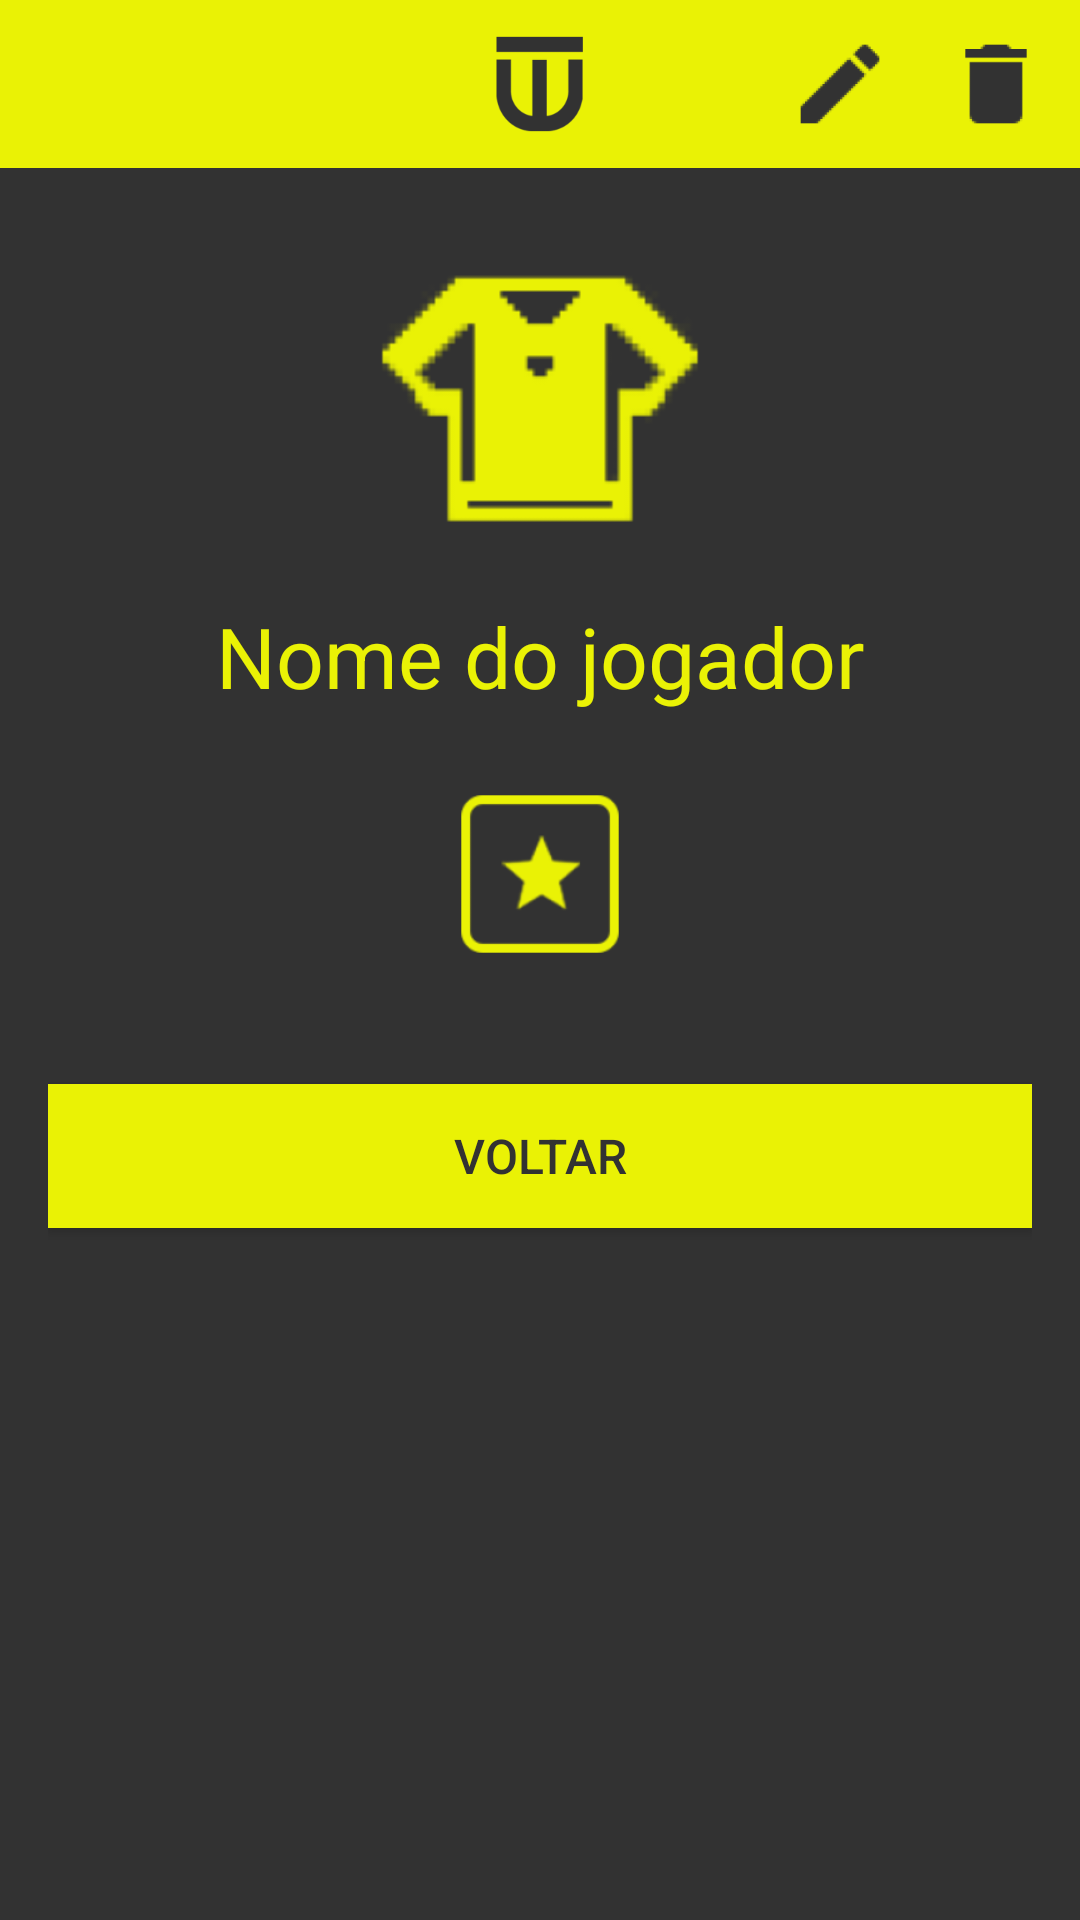

Icons on this 1080w x 1920h Android screen, each with its box as (x1, y1, x2, y2):
delete: (965, 44, 1027, 124)
edit: (800, 44, 880, 124)
player: (382, 276, 698, 522)
